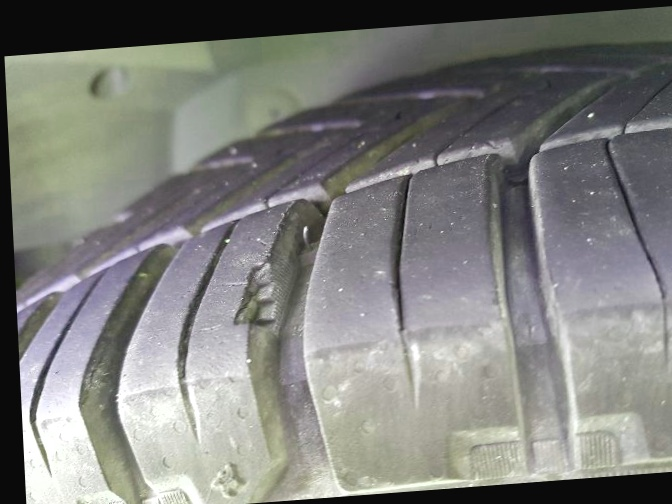temoin:90: (224, 244, 307, 349)
